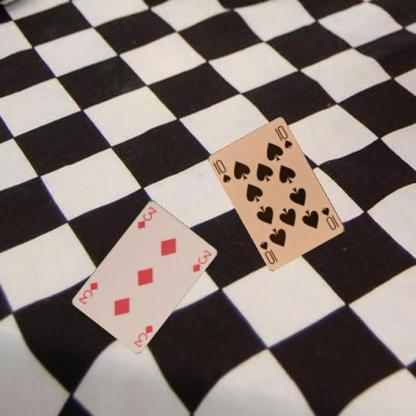10s: (319, 205, 340, 231), (213, 157, 232, 184)
3d: (134, 203, 158, 230), (131, 322, 154, 348)
